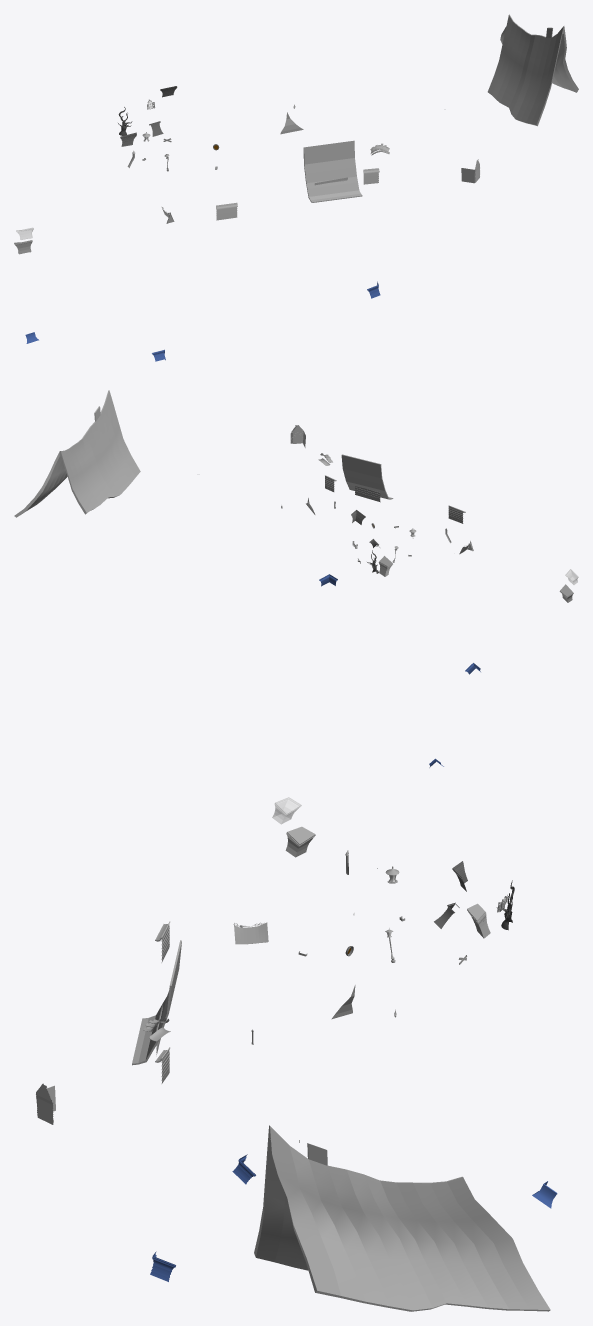
3 renders of one model, top to bottom at view 1: azimuth 30°, elevation 25°; view 2: azimuth 150°, elevation 25°; view 3: azimuth 270°, elevation 25°, orthographic. The views are drawn at different scales.
Visible parts, largest first — view 1: polySurface186, pCube190; view 2: polySurface186, pCube190; view 3: polySurface186, pCube190, polySurface223.
Boxes of the visible parts, left/top/right/bottom form: polySurface186: left=487, top=14, right=578, bottom=126; pCube190: left=303, top=140, right=362, bottom=202; polySurface186: left=14, top=390, right=140, bottom=517; pCube190: left=341, top=454, right=393, bottom=499; polySurface186: left=254, top=1125, right=550, bottom=1311; pCube190: left=132, top=940, right=181, bottom=1065; polySurface223: left=233, top=922, right=268, bottom=944.
Size of the model in its own units: 1.53 by 0.6773 by 0.6905.
